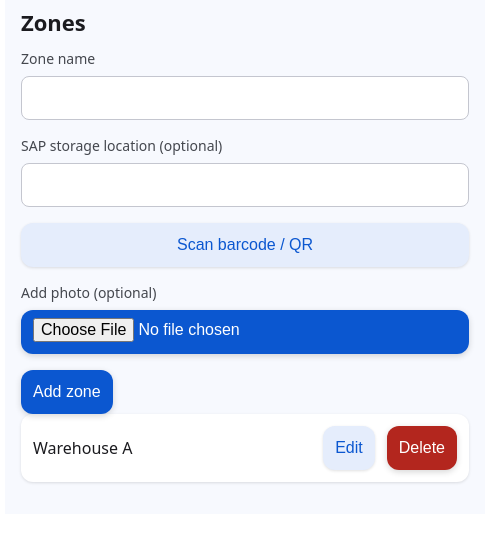
ZonesPage › deletes a zone after confirming
Expected: the text "Warehouse A" is shown, [33,437,132,459]
Click the button "Delete" at (422, 448), box [387,426,457,470]
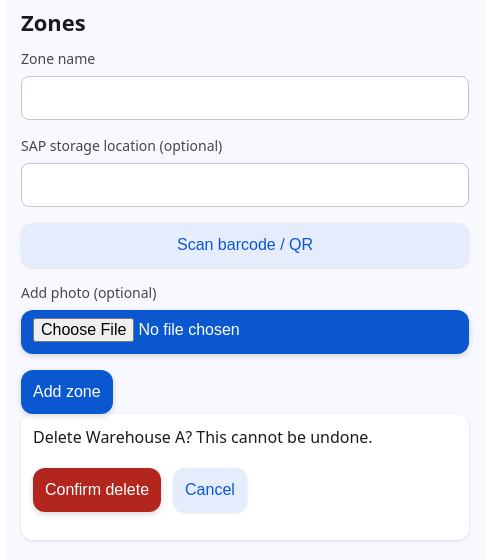
Click the button "Confirm delete" at (97, 490), box [33,468,161,512]
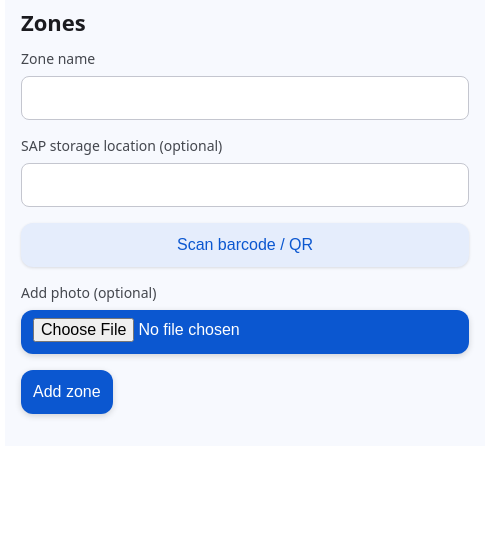
Now the text "Warehouse A" is gone
